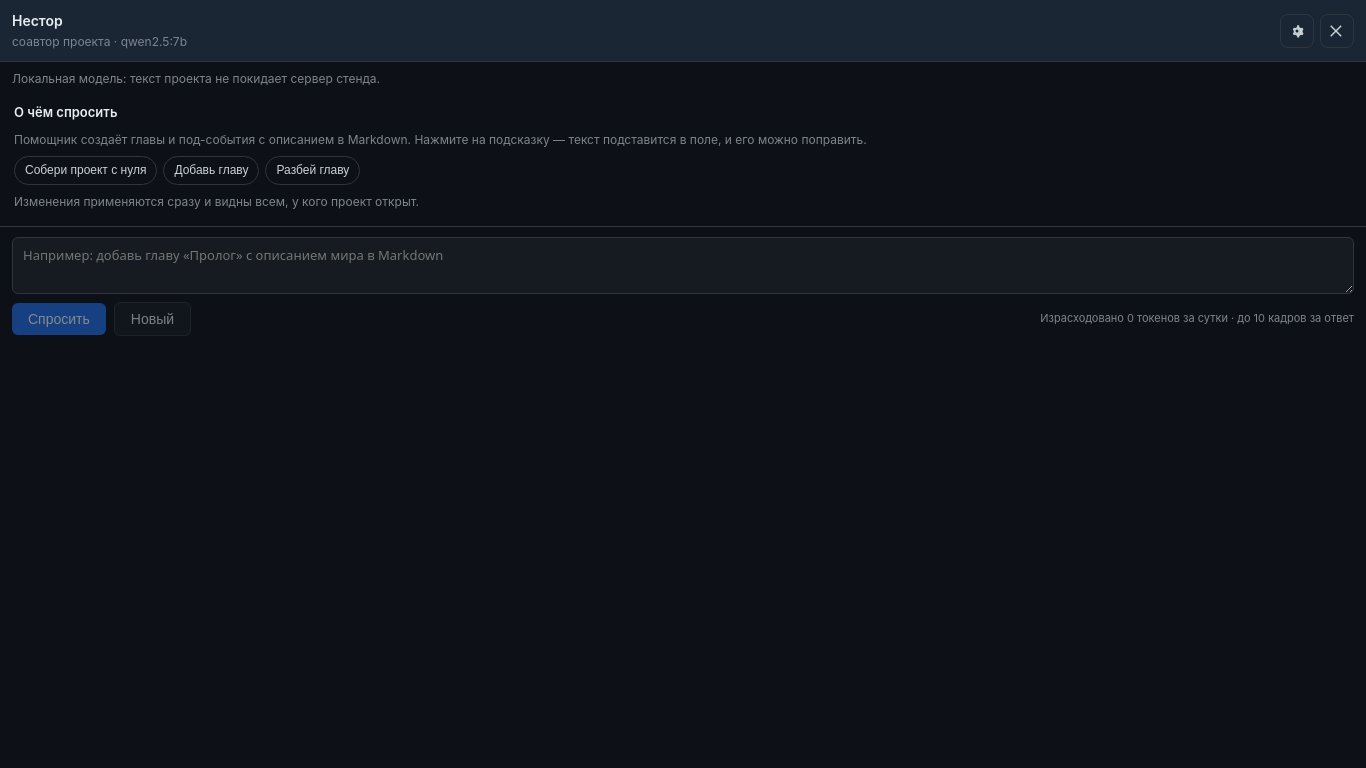
Test: AssistantPanel › облачную модель Ollama показывает предупреждением и спрашивает согласие
Expected: the text "Локальная модель: текст проекта не покидает сервер стенда." is shown, [12,71,380,86]
Expected: the text "Выбрана ОБЛАЧНАЯ модель" is not shown
Note: Модель выбирается в настройке — втором виде того же окна.
Click the button named "Настройка помощника" at (1297, 30), box [1280,14,1314,48]
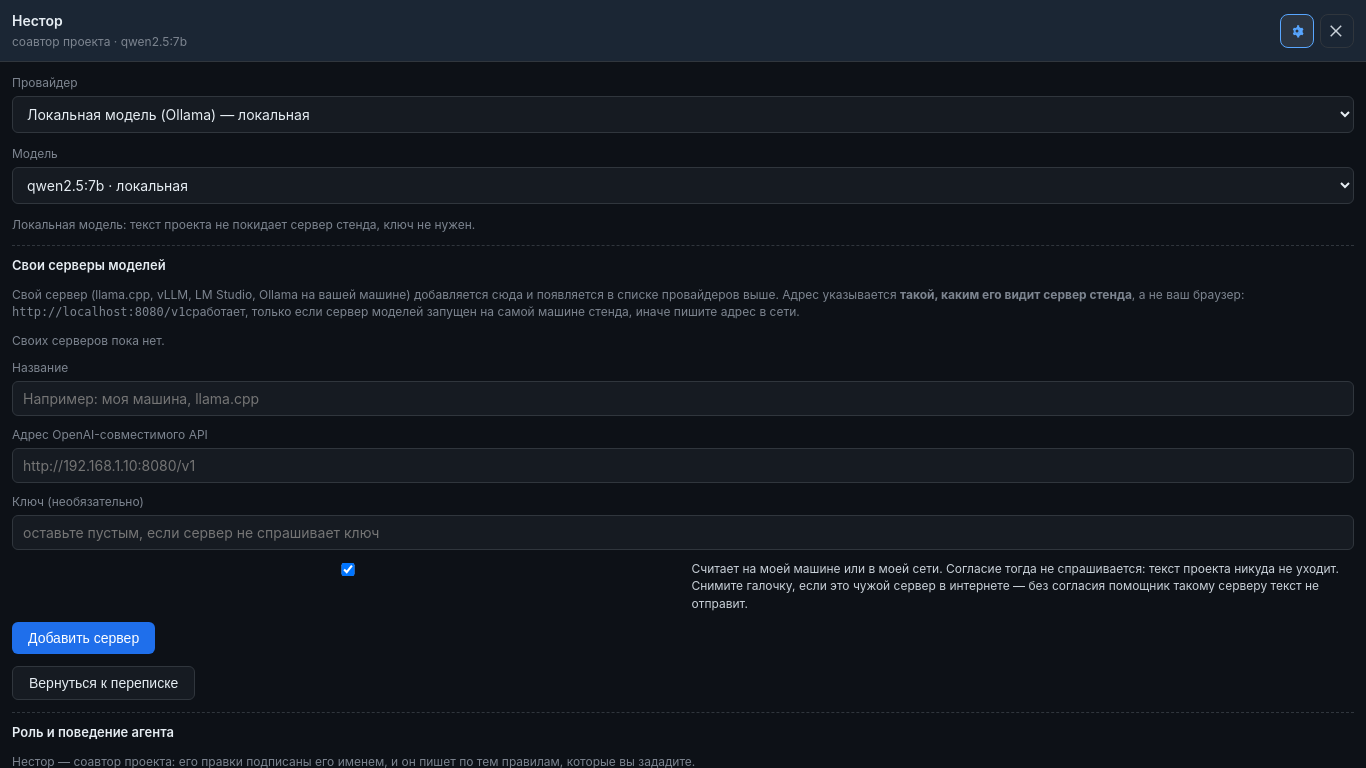
Select "glm-5.2:cloud · облачная" in the dropdown labelled "Модель" at (683, 186), box [12,167,1354,204]
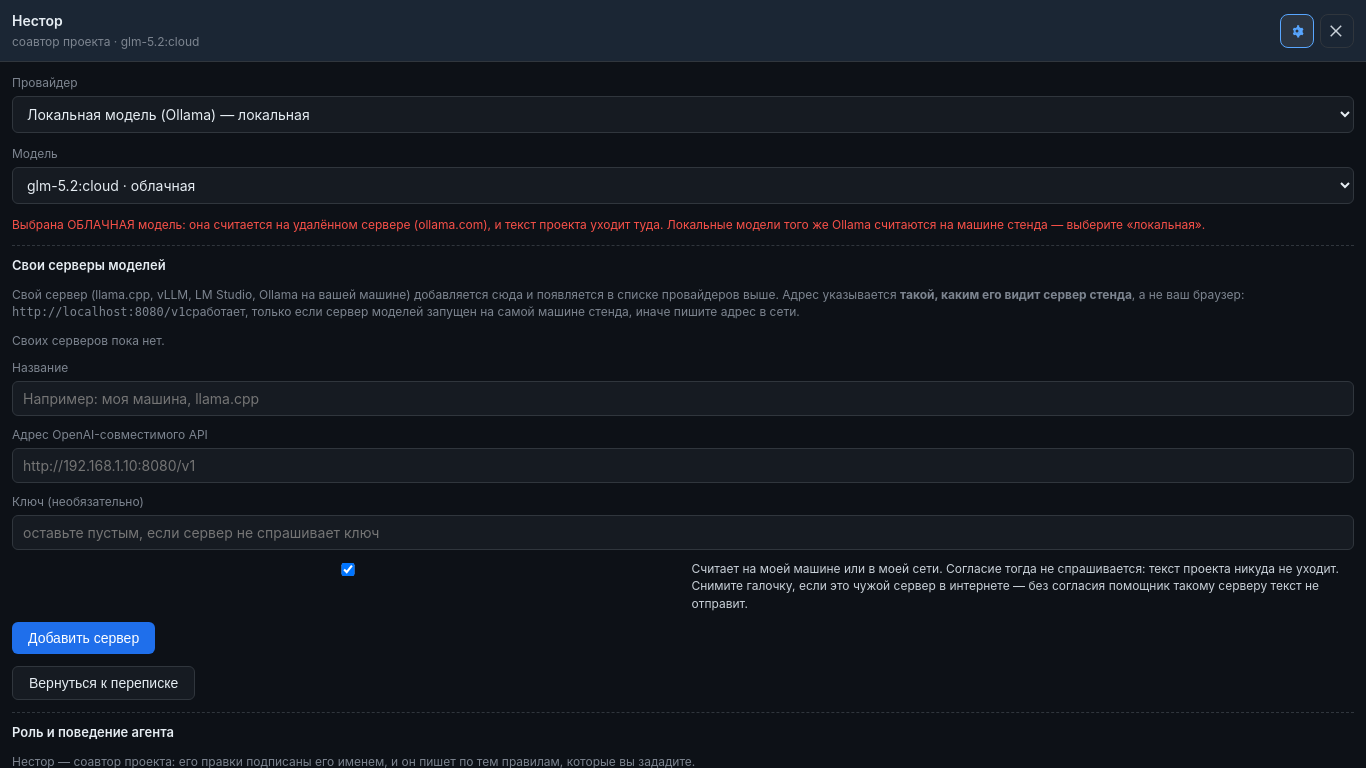
Now the text "Выбрана ОБЛАЧНАЯ модель" is shown, box [12,217,1205,232]
Click the button "Вернуться к переписке" at (104, 683), box [12,666,195,700]
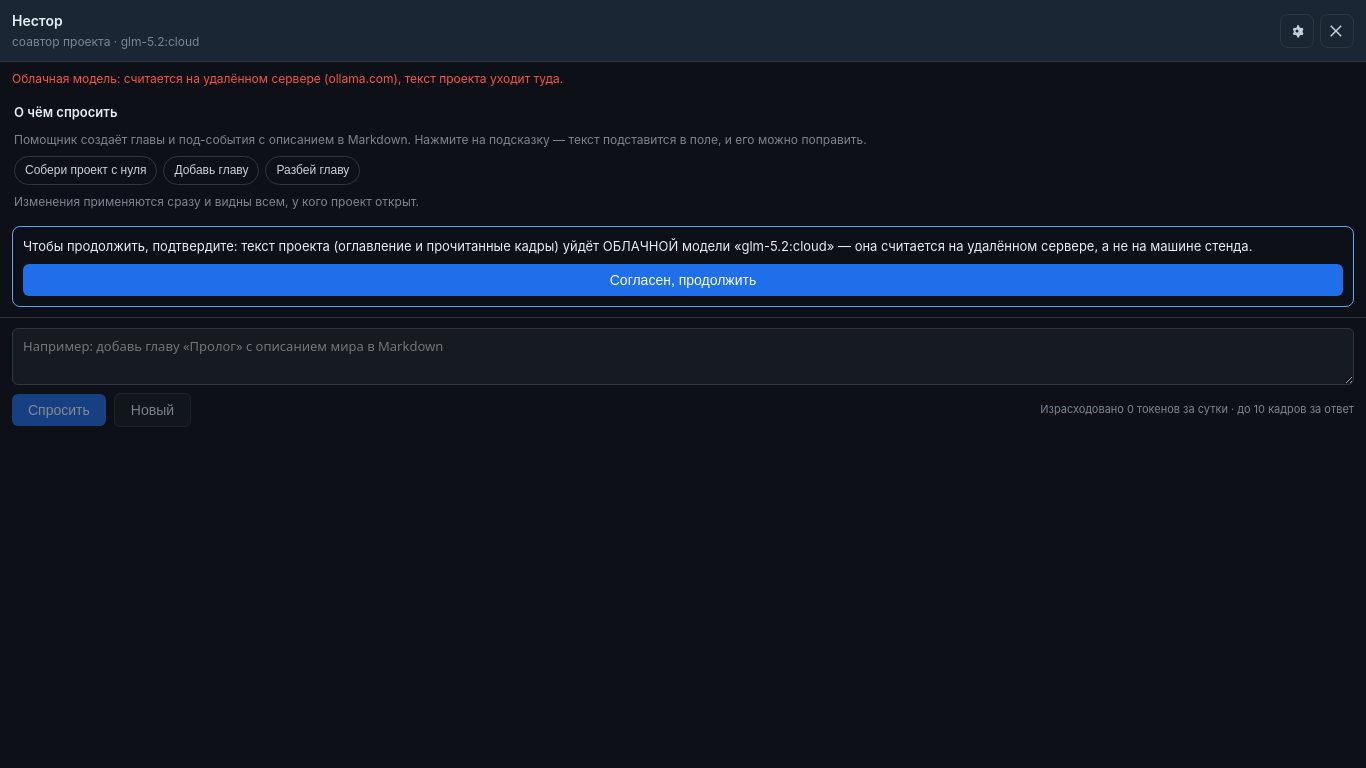
Now the text "уйдёт ОБЛАЧНОЙ модели" is shown, box [23,238,1252,254]
Now the text box named "Сообщение помощнику" is disabled, box [12,328,1354,385]
